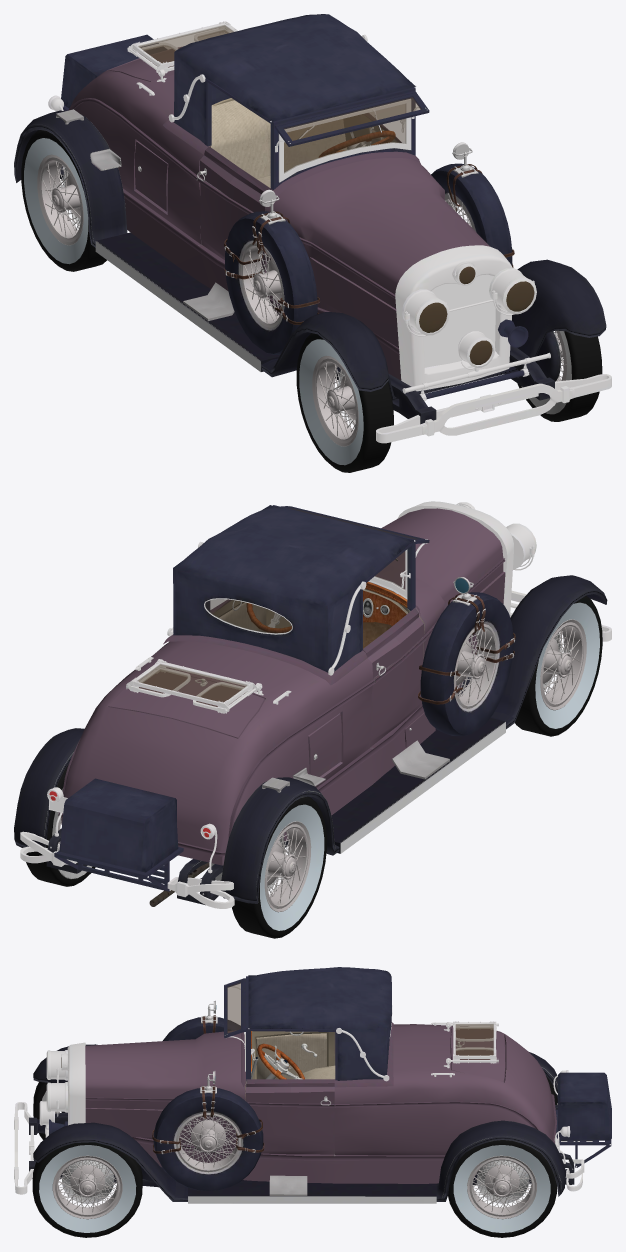
The model's file is retro_car-transformed.glb.
3 renders of one model, top to bottom at view 1: azimuth 30°, elevation 25°; view 2: azimuth 150°, elevation 25°; view 3: azimuth 270°, elevation 25°, orthographic. The views are drawn at different scales.
Visible parts, largest first — view 1: Foundation1_low_Lincoln2_0, Back1_low_Lincoln1_0, Body1_low_Lincoln3_0, Window_Back_Glasses_0, Fars_Fars2_0; view 2: Foundation1_low_Lincoln2_0, Body1_low_Lincoln3_0, Back1_low_Lincoln1_0, Window_Back_Glasses_0; view 3: Foundation1_low_Lincoln2_0, Body1_low_Lincoln3_0, Back1_low_Lincoln1_0, Window_Back_Glasses_0.
Boxes of the visible parts, x1,y1,x2,y2 form: Foundation1_low_Lincoln2_0: (14, 109, 606, 472); Back1_low_Lincoln1_0: (48, 14, 611, 443); Body1_low_Lincoln3_0: (68, 46, 489, 380); Window_Back_Glasses_0: (138, 25, 420, 173); Fars_Fars2_0: (419, 266, 534, 364); Foundation1_low_Lincoln2_0: (14, 572, 607, 938); Body1_low_Lincoln3_0: (58, 508, 505, 865); Back1_low_Lincoln1_0: (20, 501, 611, 908); Window_Back_Glasses_0: (138, 508, 415, 706); Foundation1_low_Lincoln2_0: (29, 1000, 574, 1237); Body1_low_Lincoln3_0: (85, 1024, 556, 1183); Back1_low_Lincoln1_0: (14, 967, 611, 1194); Window_Back_Glasses_0: (227, 982, 493, 1059).
Size of what is drawn, in the model's own units: 2.07 by 2.16 by 5.58.
9 materials, 9 textured.
